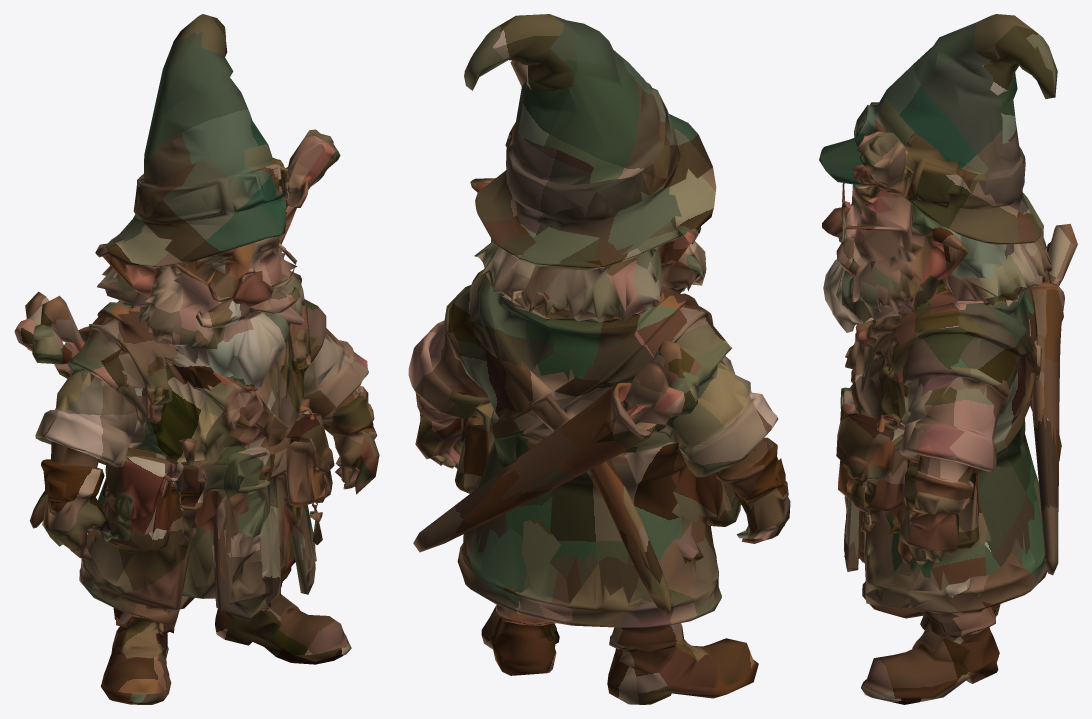
File: scribe.glb
3 views of the same model, side by side, from view 1: azimuth 30°, elevation 25°; view 2: azimuth 150°, elevation 25°; view 3: azimuth 270°, elevation 25° (orthographic). The views are drawn at different scales.
Visible parts, largest first — view 1: Scribe_Export; view 2: Scribe_Export; view 3: Scribe_Export.
Part boxes in pixels (x1,y1,x2,y2): Scribe_Export: [14, 14, 379, 704]; Scribe_Export: [408, 14, 790, 704]; Scribe_Export: [819, 14, 1077, 704].
Bounding box in the file's own units: 0.5453 × 0.9789 × 0.3549.
Materials: 1 (1 with a texture image).
